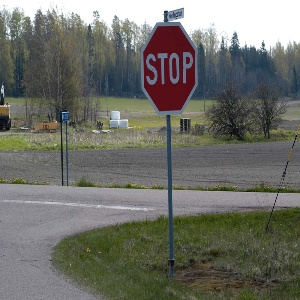stop: (140, 22, 198, 115)
